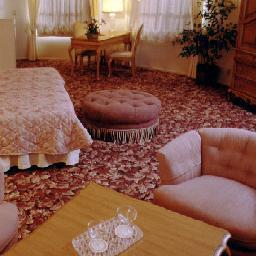Cama: (2, 67, 73, 167)
